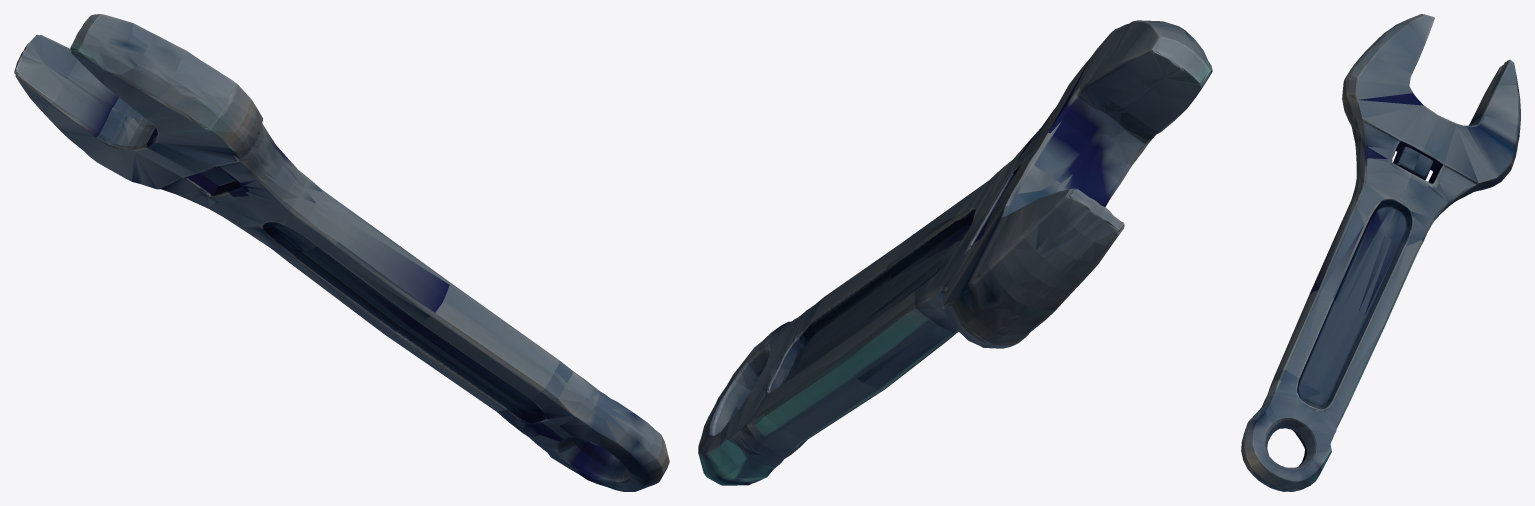
The model's file is repair-wrench.glb.
3 renders of one model, left to right at view 1: azimuth 30°, elevation 25°; view 2: azimuth 150°, elevation 25°; view 3: azimuth 270°, elevation 25°, orthographic. The views are drawn at different scales.
Visible parts, largest first — view 1: tripo_node_965f1ad7-a7b4-4f36-81e7-0dd764994ae4; view 2: tripo_node_965f1ad7-a7b4-4f36-81e7-0dd764994ae4; view 3: tripo_node_965f1ad7-a7b4-4f36-81e7-0dd764994ae4.
Boxes of the visible parts, x1=… form: tripo_node_965f1ad7-a7b4-4f36-81e7-0dd764994ae4: x1=14, y1=14, x2=669, y2=491; tripo_node_965f1ad7-a7b4-4f36-81e7-0dd764994ae4: x1=698, y1=20, x2=1212, y2=485; tripo_node_965f1ad7-a7b4-4f36-81e7-0dd764994ae4: x1=1241, y1=14, x2=1520, y2=491.
Size of the model in its own units: 0.9902 by 0.998 by 0.752.
1 material, 1 textured.
